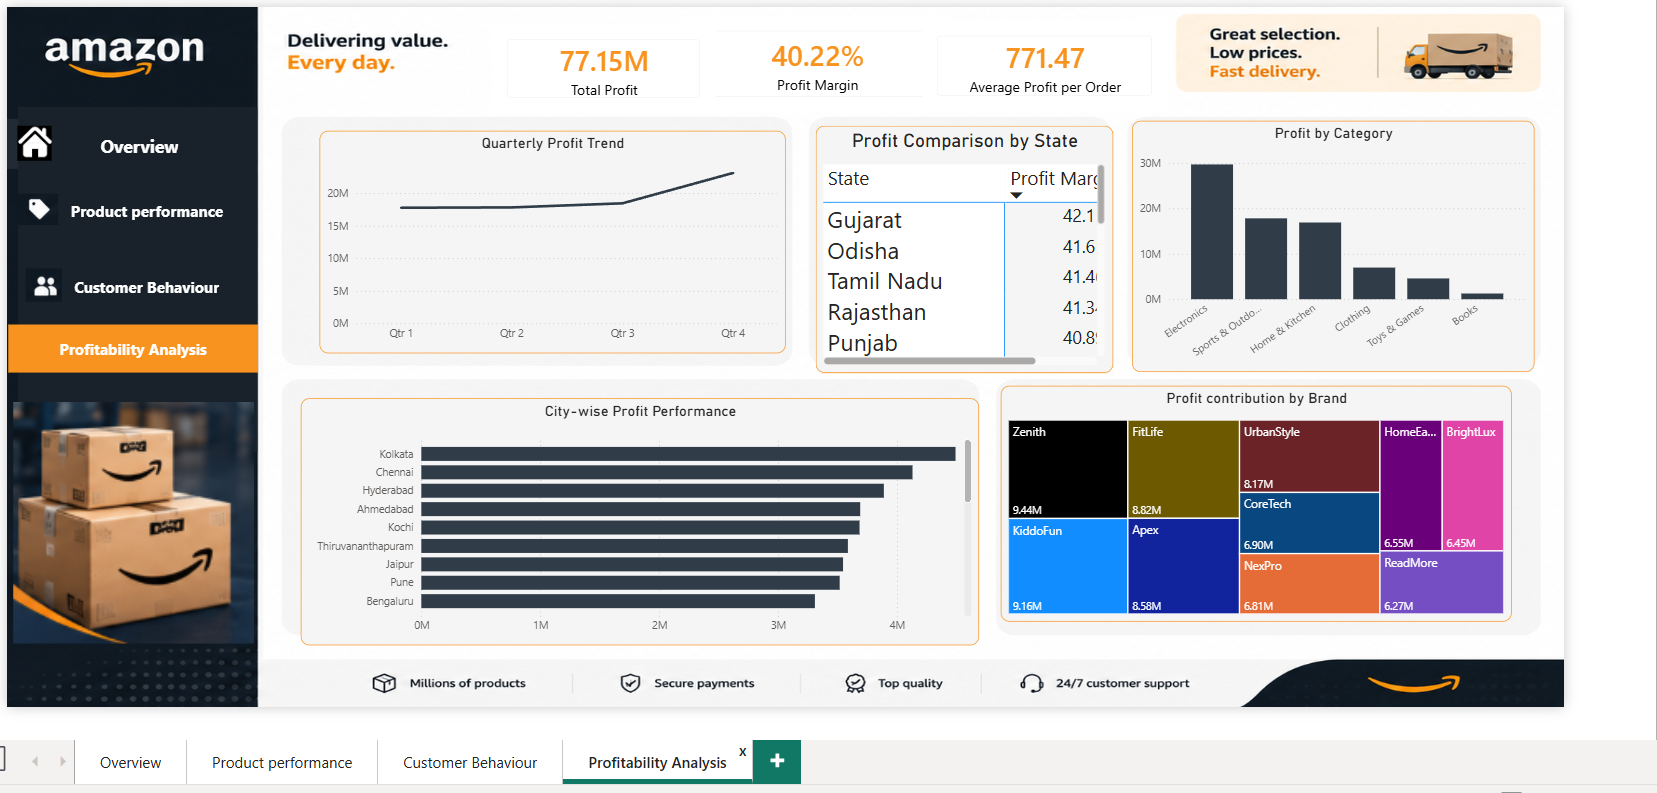

What the dashboard file says about the page in this screenshot:
{"tool":"powerbi","page":{"name":"Profitability Analysis","canvas":[1780,800],"ordinal":3},"visuals":[{"type":"treemap","title":"Profit contribution  by Brand","fields":{"Group":["amzon sale dataset.Brand"],"Values":["Measure.Total Profit"]},"box":[1135.1,433.4,583.9,269.8],"z":0},{"type":"clusteredColumnChart","title":"Profit by Category","fields":{"Category":["amzon sale dataset.Category"],"Y":["Sum(amzon sale dataset.Profit)"]},"box":[1286.2,129.8,459.7,287],"z":1000},{"type":"cardVisual","fields":{"Data":["Measure.Profit Margin"]},"box":[769.7,9.7,311,110.7],"z":2000},{"type":"cardVisual","fields":{"Data":["Measure.Total Profit"]},"box":[554.6,19.4,255.7,101.1],"z":3000},{"type":"shape","box":[12.9,114.8,273.3,394.6],"z":6000},{"type":"actionButton","box":[35.6,116.4,231.2,85.7],"z":7000},{"type":"actionButton","box":[52.3,190.3,214.3,87.1],"z":8000},{"type":"actionButton","box":[72.4,277.5,173.6,84.4],"z":9000},{"type":"actionButton","box":[1.3,363.3,285.5,55],"z":10000},{"type":"pivotTable","title":"Profit Comparison by State","fields":{"Rows":["amzon sale dataset.State"],"Values":["Measure.Profit Margin"]},"box":[924.9,135.8,339.7,282.4],"z":11000},{"type":"clusteredBarChart","title":"City-wise Profit Performance","fields":{"Y":["Measure.Total Profit"],"Category":["Amazon Business Insights.City"]},"box":[335.9,446.5,775.5,282.1],"z":12000},{"type":"lineChart","title":"Quarterly Profit Trend ","fields":{"Y":["Measure.Total Profit"],"Category":["Calendar.Date.Variation.Date Hierarchy.Quarter"]},"box":[356.9,141.3,532.5,254.1],"z":13000},{"type":"image","box":[17.4,298.9,50,38.6],"z":14000},{"type":"image","box":[12.1,202.4,46.9,56.6],"z":15000},{"type":"image","box":[1.4,135.7,60,40],"z":16000},{"type":"image","box":[6.7,451.7,274.8,276.1],"z":17000},{"type":"cardVisual","fields":{"Data":["Measure.Average Profit per Order"]},"box":[1046.2,16.2,280.5,103],"z":18000}]}

Visuals, with their boxes on the page's 1780x800 design canvas (x1, y1, x2, y2). These are canvas units, not pixel positions in the 1657x793 screenshot, which may show the page scaled, cropped or inside an application window:
"Profit contribution  by Brand" treemap: (x1=1135, y1=433, x2=1719, y2=703)
"Profit by Category" clusteredColumnChart: (x1=1286, y1=130, x2=1746, y2=417)
cardVisual - Measure.Profit Margin: (x1=770, y1=10, x2=1081, y2=120)
cardVisual - Measure.Total Profit: (x1=555, y1=19, x2=810, y2=120)
shape: (x1=13, y1=115, x2=286, y2=509)
actionButton: (x1=36, y1=116, x2=267, y2=202)
actionButton: (x1=52, y1=190, x2=267, y2=277)
actionButton: (x1=72, y1=278, x2=246, y2=362)
actionButton: (x1=1, y1=363, x2=287, y2=418)
"Profit Comparison by State" pivotTable: (x1=925, y1=136, x2=1265, y2=418)
"City-wise Profit Performance" clusteredBarChart: (x1=336, y1=446, x2=1111, y2=729)
"Quarterly Profit Trend " lineChart: (x1=357, y1=141, x2=889, y2=395)
image: (x1=17, y1=299, x2=67, y2=338)
image: (x1=12, y1=202, x2=59, y2=259)
image: (x1=1, y1=136, x2=61, y2=176)
image: (x1=7, y1=452, x2=282, y2=728)
cardVisual - Measure.Average Profit per Order: (x1=1046, y1=16, x2=1327, y2=119)
